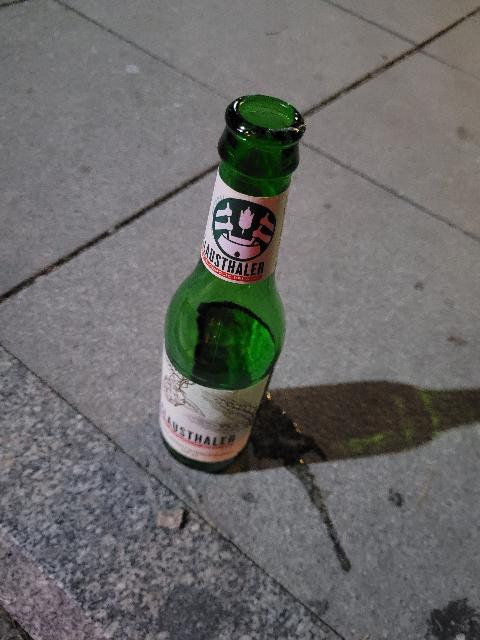Cam: (151, 93, 314, 483)
